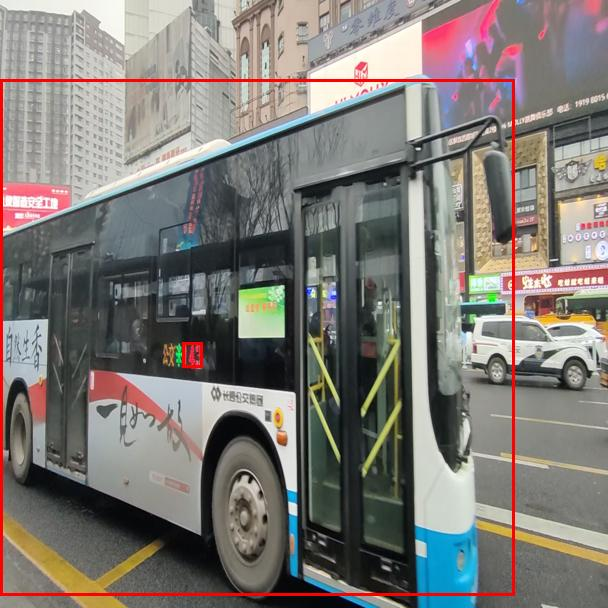bus: (0, 79, 514, 595)
screen: (182, 342, 202, 367)
